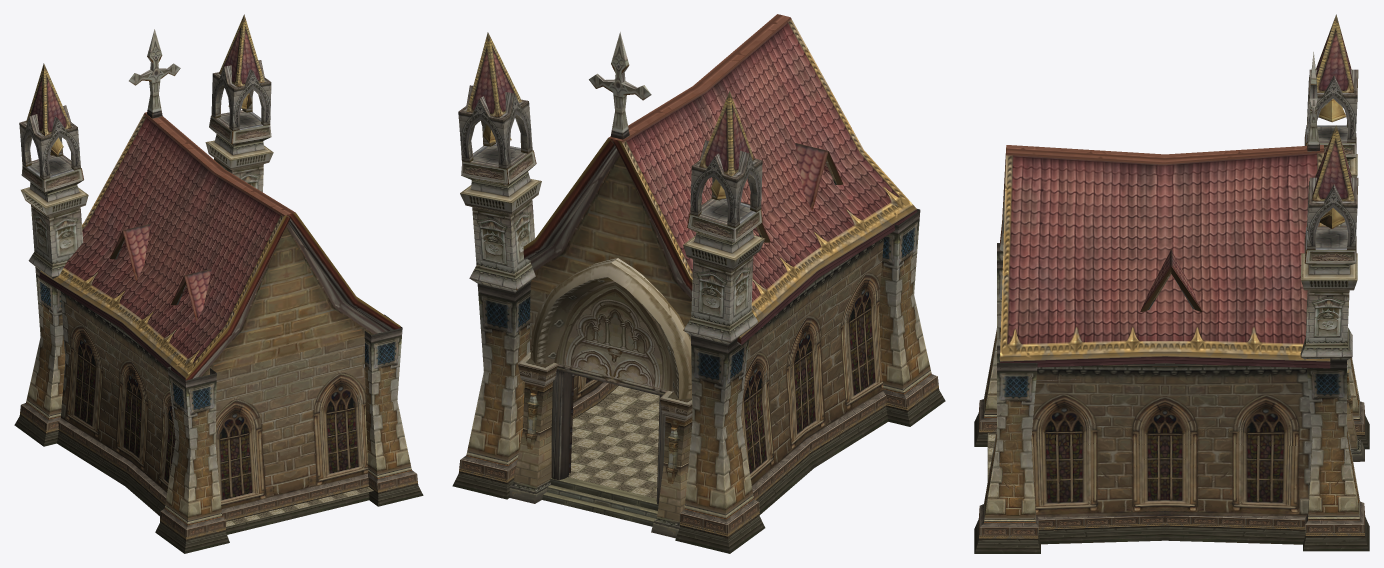
Rendered from DN_ghbd03.FBX.
3 views of the same model, side by side, from view 1: azimuth 30°, elevation 25°; view 2: azimuth 150°, elevation 25°; view 3: azimuth 270°, elevation 25° (orthographic). The views are drawn at different scales.
Parts seen in each view (by area): view 1: DN_ghbd03; view 2: DN_ghbd03; view 3: DN_ghbd03.
Part boxes in pixels (x1,y1,x2,y2): DN_ghbd03: (14,14,423,553); DN_ghbd03: (452,14,945,553); DN_ghbd03: (974,14,1369,553).
Bounding box in the file's own units: 1299 × 2014 × 1642.
